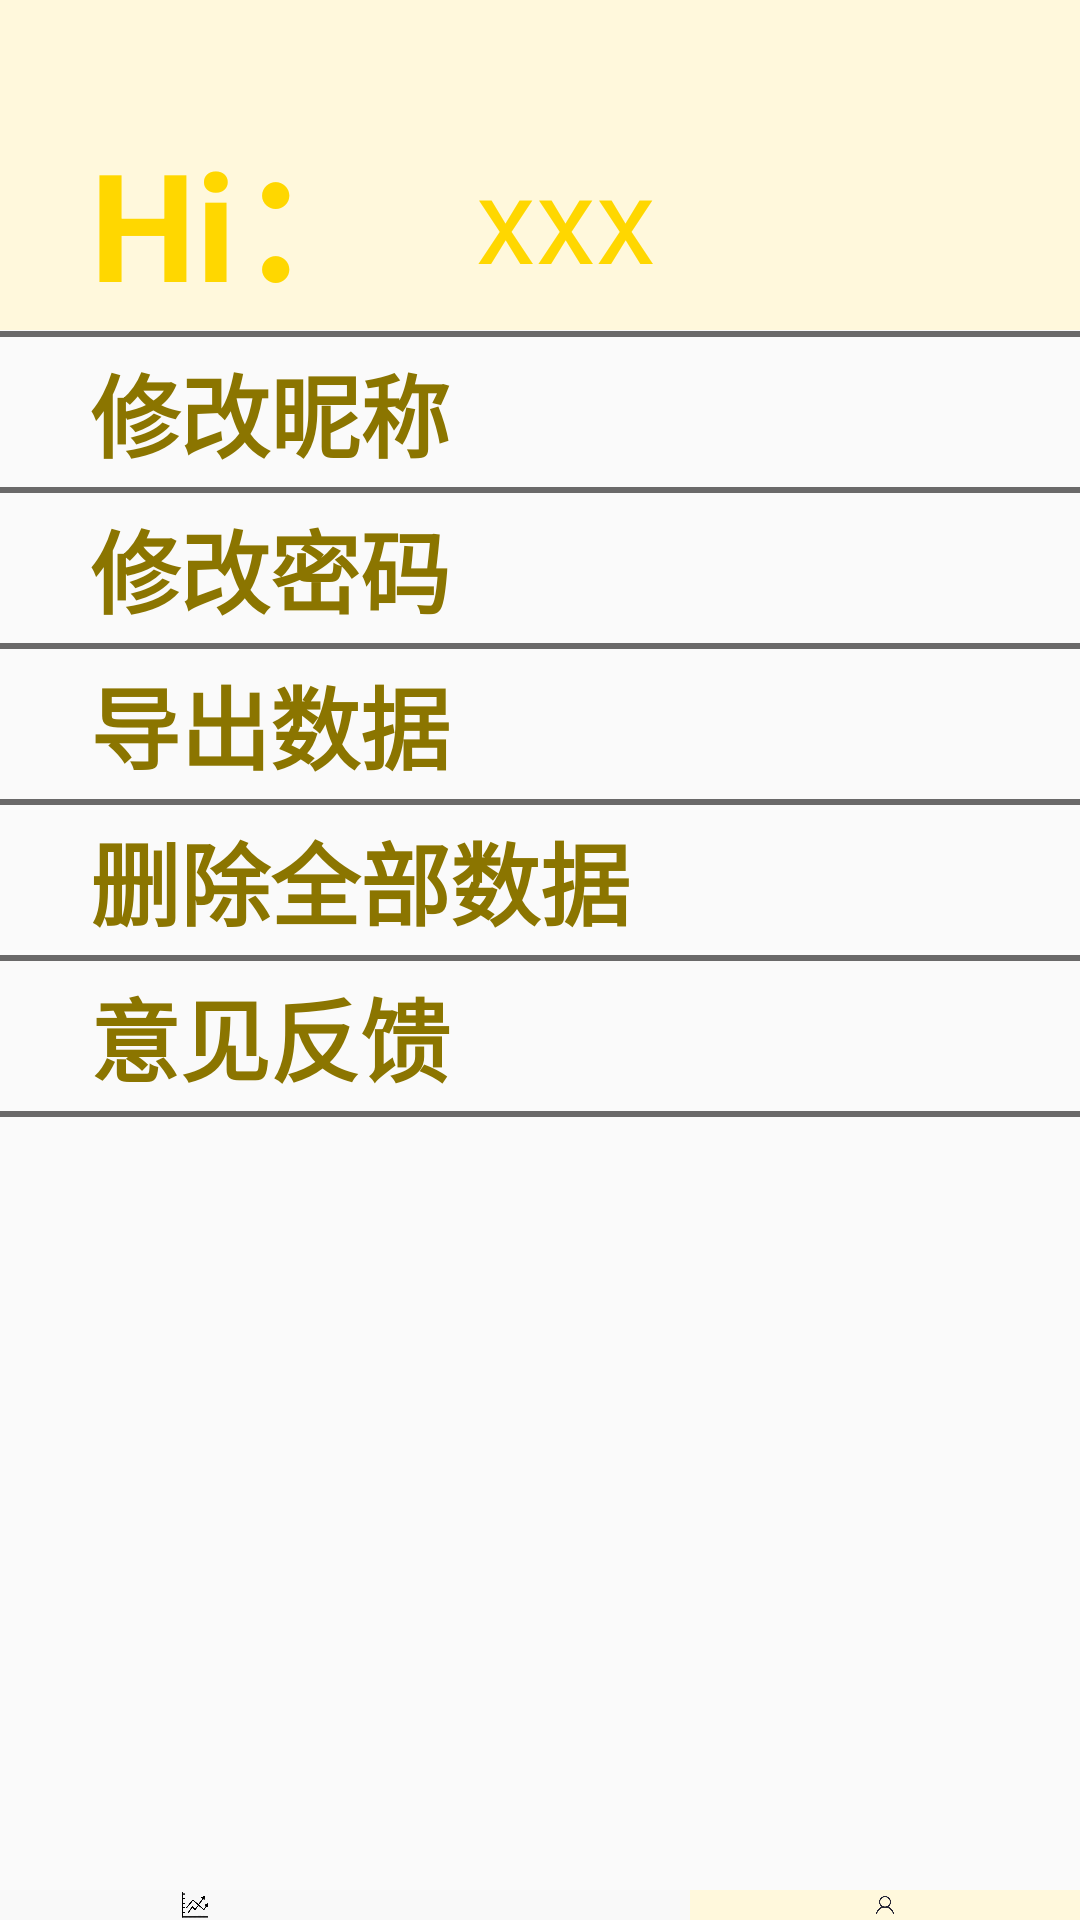

Where icons sit on this 1080x1920 app screen, as box=[x1, y1, x2, y2]:
chart: box=[182, 1892, 208, 1918]
